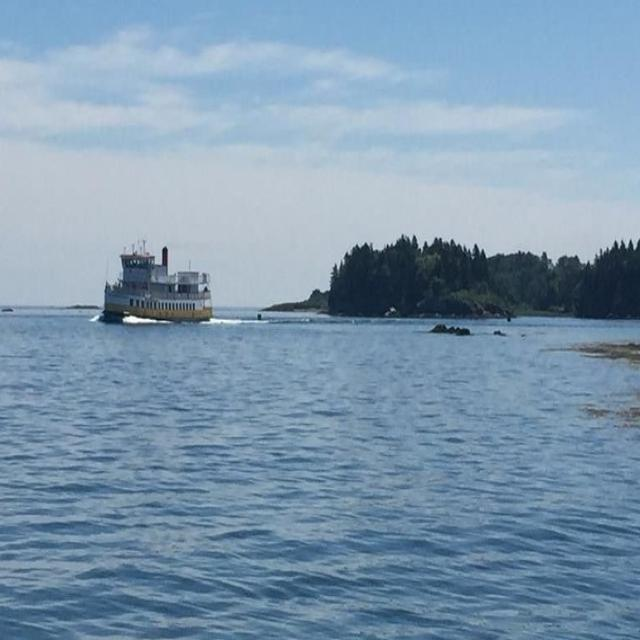passenger ship: (82, 242, 230, 318)
